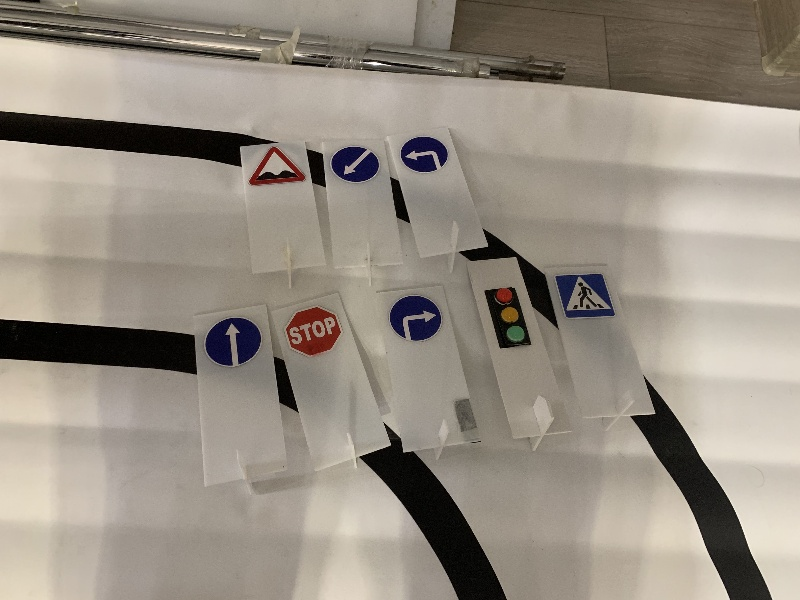Left: (401, 136, 448, 177)
Nerov: (252, 142, 305, 191)
Right: (389, 295, 442, 341)
Stop: (284, 305, 341, 358)
forw: (205, 318, 263, 369)
pesh: (554, 270, 614, 322)
prep: (329, 144, 381, 183)
